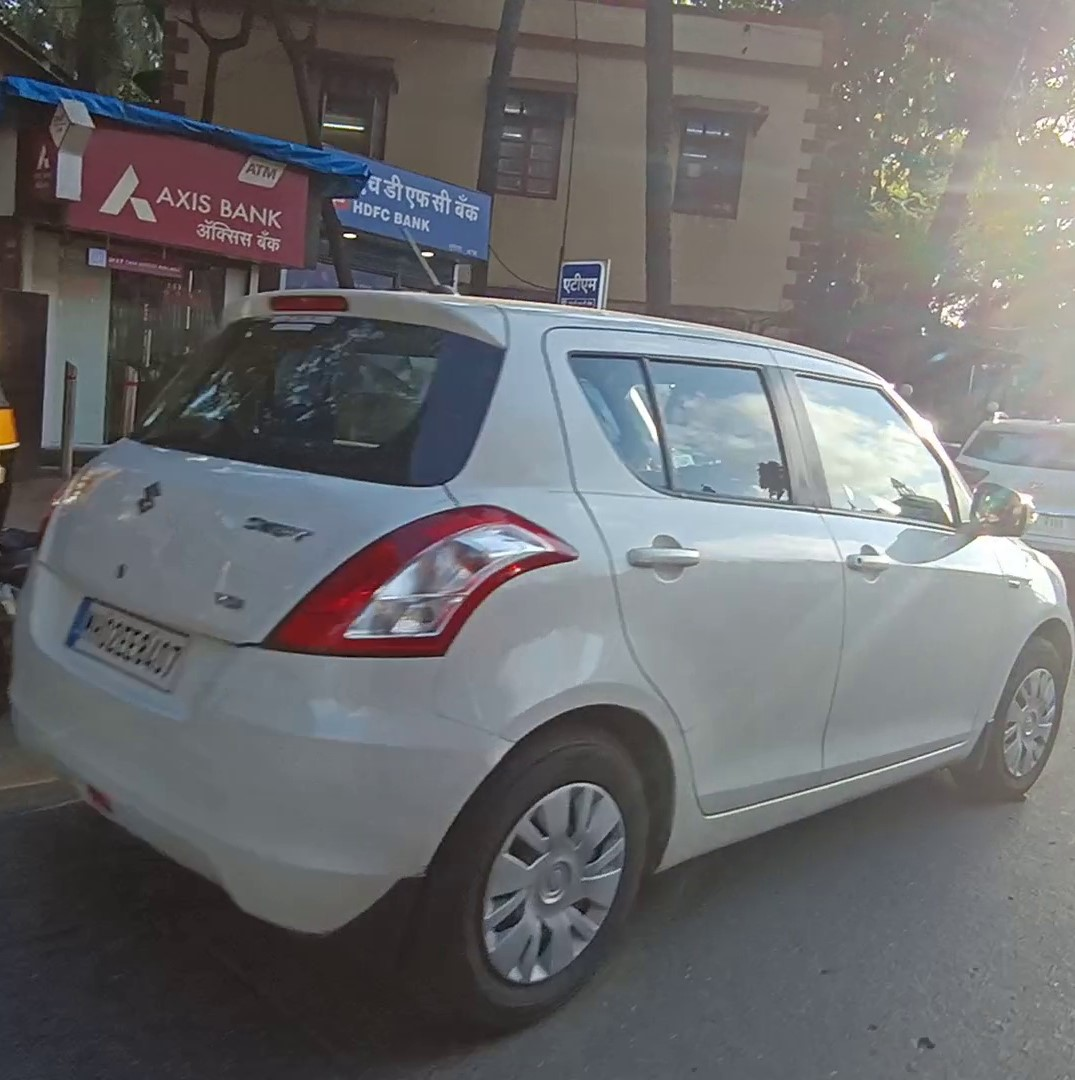MH02EE8407: (64, 595, 190, 695)
